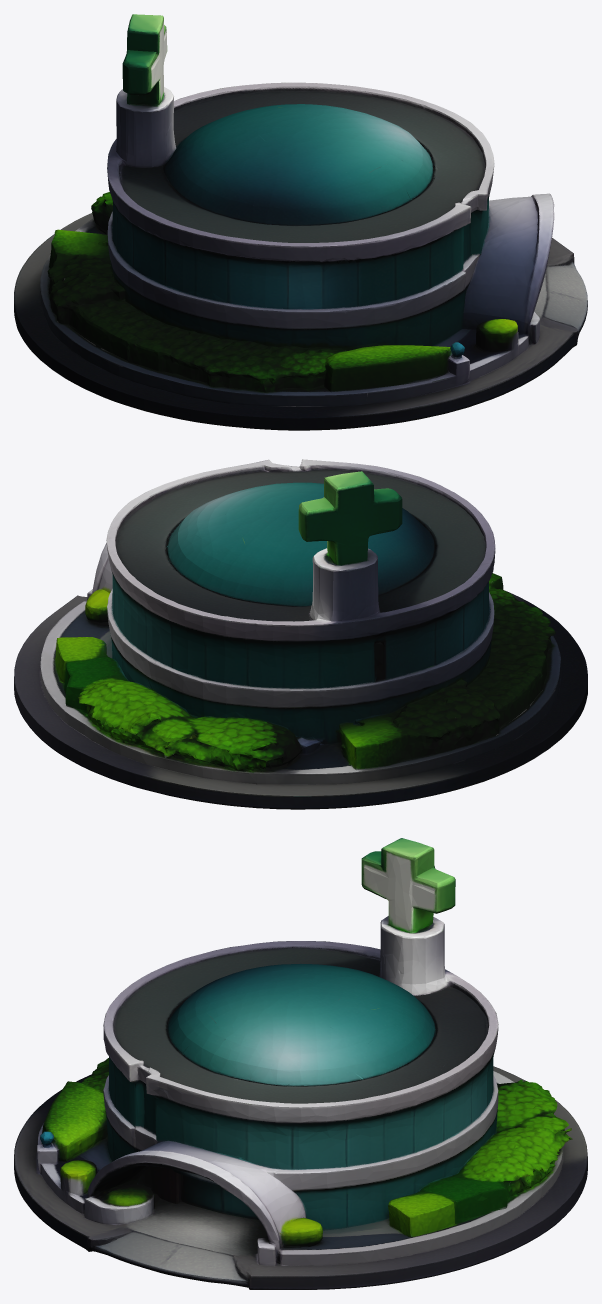
The model's file is hospital.glb.
The picture shows the model from 3 angles, top to bottom: view 1: azimuth 30°, elevation 25°; view 2: azimuth 150°, elevation 25°; view 3: azimuth 270°, elevation 25°; orthographic projection.
Parts seen in each view (by area): view 1: world; view 2: world; view 3: world.
Part boxes in pixels (x1,y1,x2,y2): world: (14, 14, 587, 430); world: (14, 459, 587, 809); world: (14, 838, 587, 1289).
Bounding box in the file's own units: 1 × 0.5245 × 1.
Materials: 1 (1 with a texture image).
